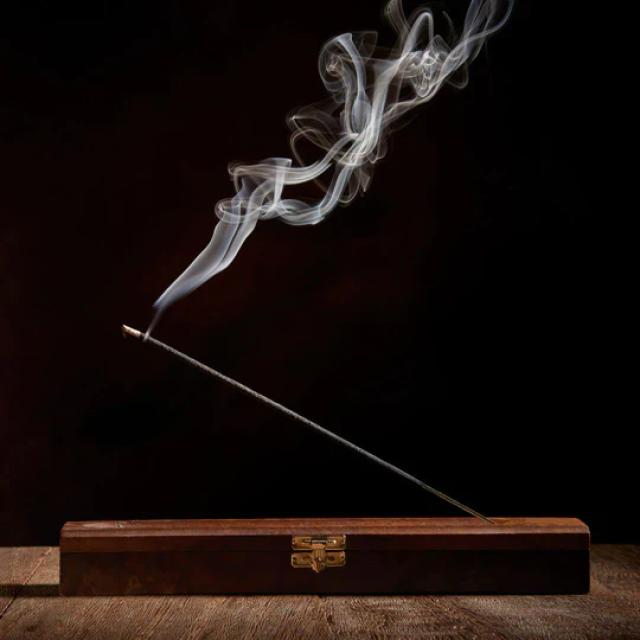Agarbatti: (110, 316, 506, 527)
